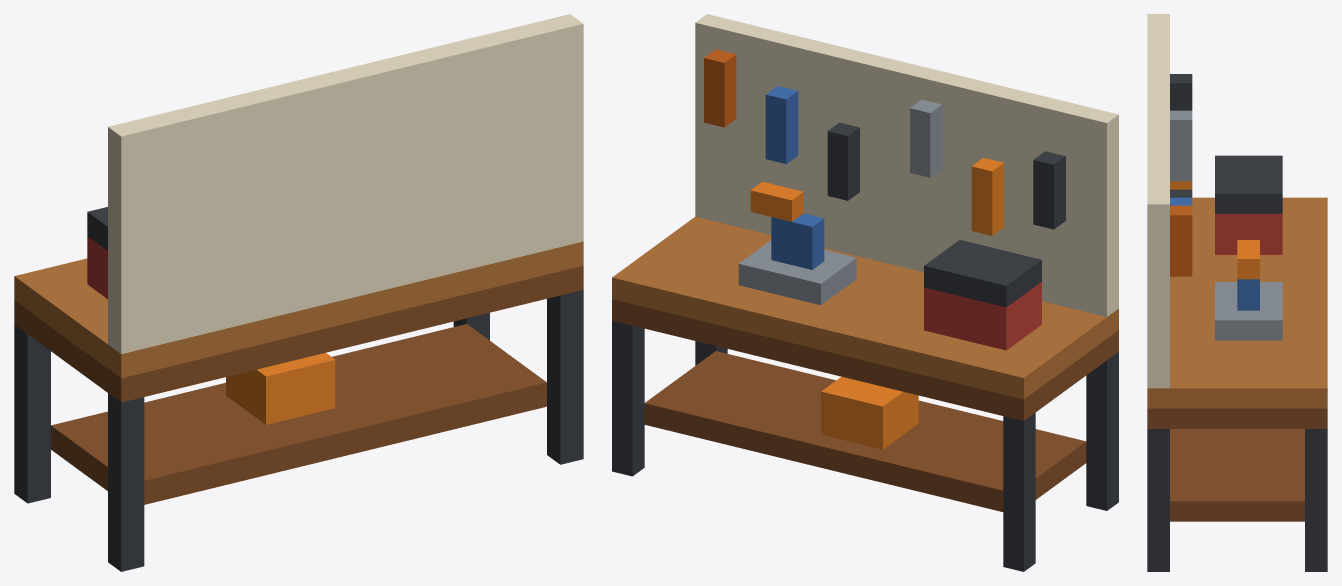
File: workbench.glb
3 views of the same model, side by side, from view 1: azimuth 30°, elevation 25°; view 2: azimuth 150°, elevation 25°; view 3: azimuth 270°, elevation 25° (orthographic). The views are drawn at different scales.
Visible parts, largest first — view 1: bench; view 2: bench; view 3: bench.
Boxes of the visible parts, bbox=[...] form: bench: bbox=[14, 14, 583, 571]; bench: bbox=[612, 14, 1118, 571]; bench: bbox=[1147, 14, 1327, 571].
Size of the model in its own units: 2 by 1.8 by 0.8.
